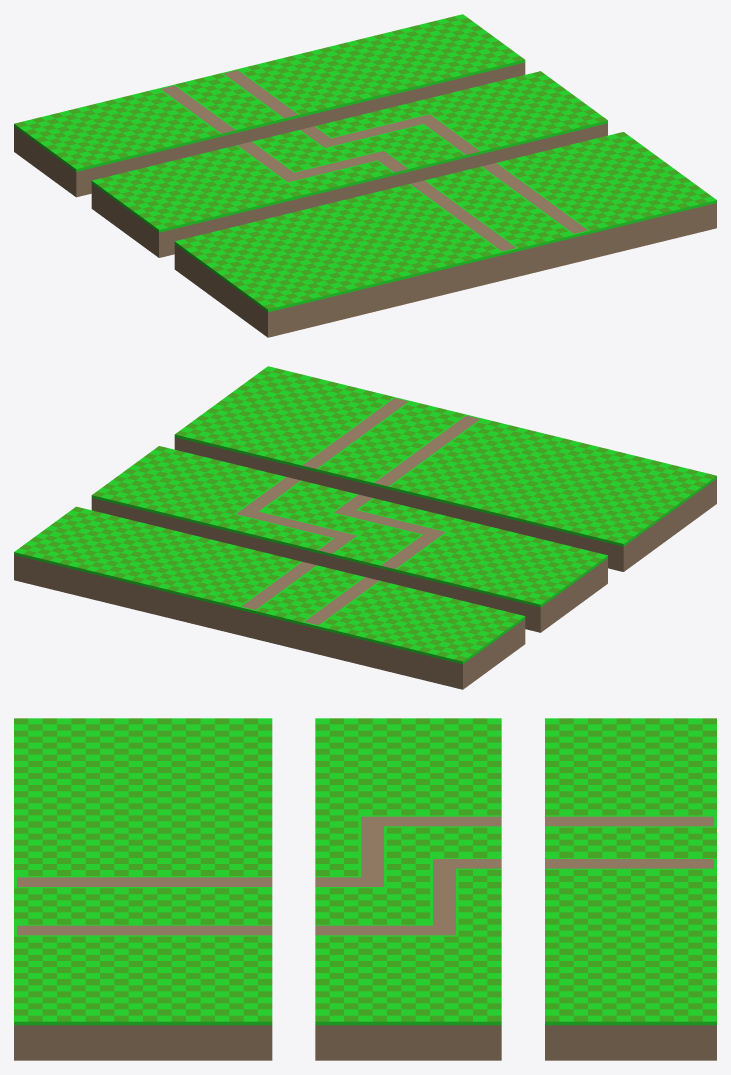
The model's file is Map 05 - 2.fbx.
3 renders of one model, top to bottom at view 1: azimuth 30°, elevation 25°; view 2: azimuth 150°, elevation 25°; view 3: azimuth 270°, elevation 25°, orthographic. The views are drawn at different scales.
Parts seen in each view (by area): view 1: Plane.018; view 2: Plane.018; view 3: Plane.018.
Boxes of the visible parts, x1,y1,x2,y2 form: Plane.018: (14, 14, 716, 337); Plane.018: (14, 366, 716, 689); Plane.018: (14, 718, 716, 1060).
Bounding box in the file's own units: 500 × 30 × 490.
